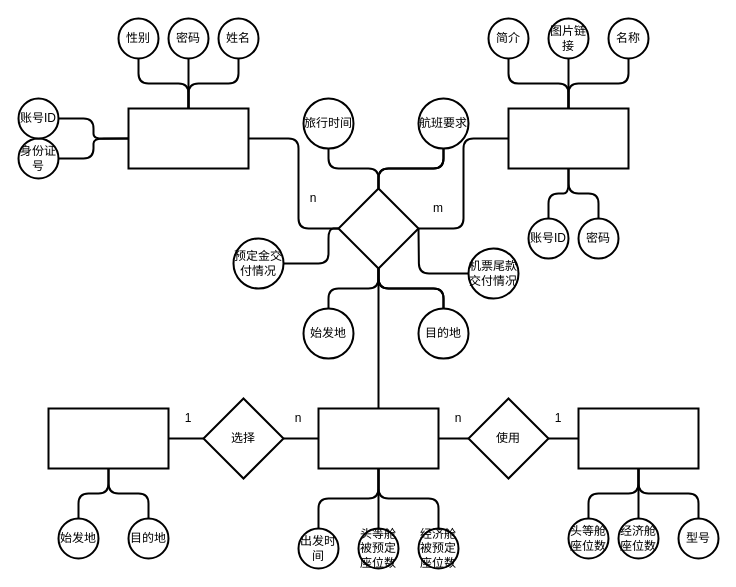
Image size: 736x587. Some labels were removed from this diagram. The centre of each missing label's shape, as x and y in pixels:
"旅客" belongs at (x=188, y=138).
"旅行社" belongs at (x=568, y=138).
"航班" belongs at (x=378, y=438).
"航线" belongs at (x=108, y=438).
"选择旅行社、 预定机票" belongs at (x=378, y=228).
"飞机" belongs at (x=638, y=438).
